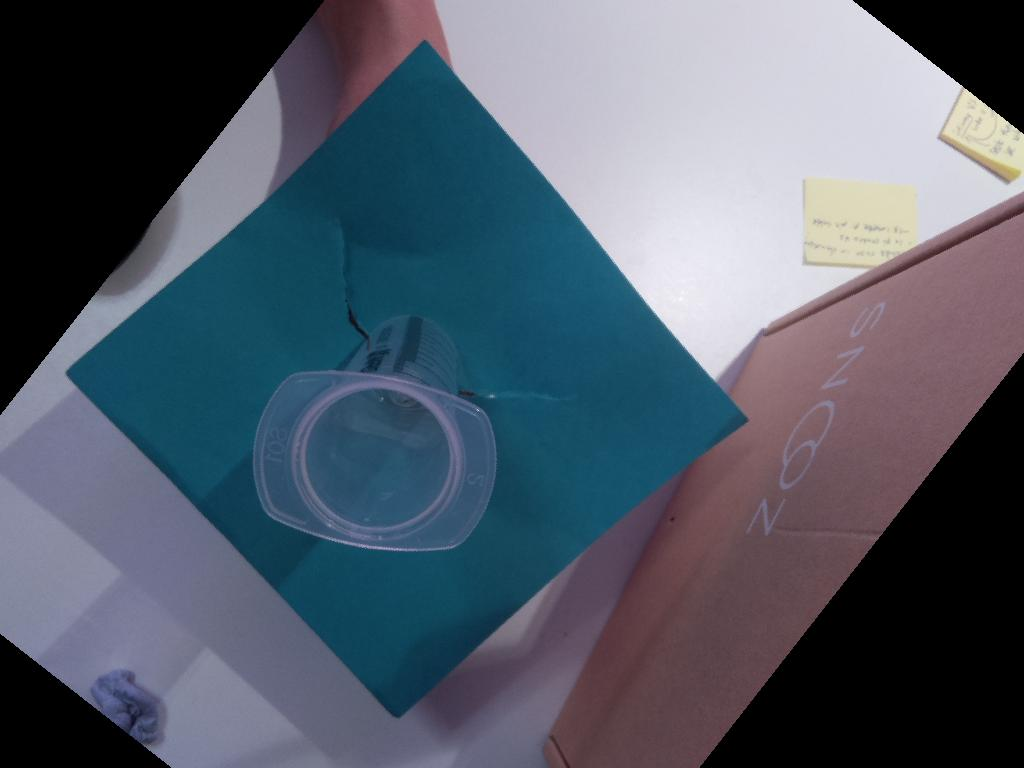clean: (251, 366, 503, 552)
